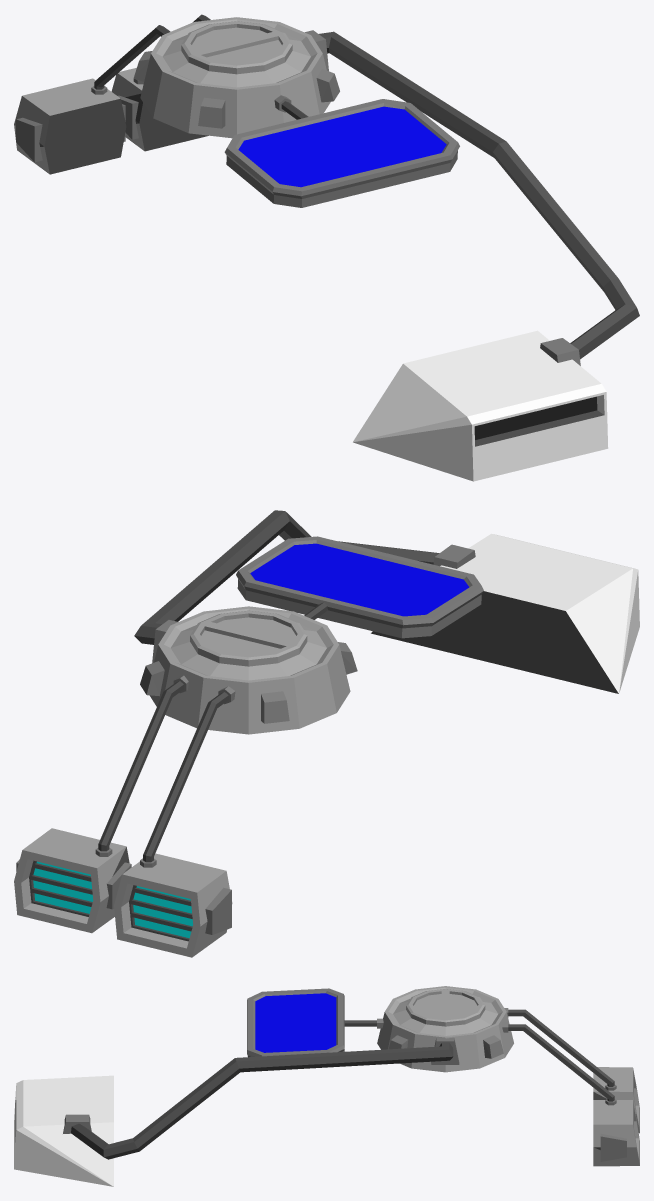
The model's file is Proto_Vehicle_Car_Flying_Cyber_Retrofit_Power_System_01.fbx.
3 renders of one model, top to bottom at view 1: azimuth 30°, elevation 25°; view 2: azimuth 150°, elevation 25°; view 3: azimuth 270°, elevation 25°, orthographic. The views are drawn at different scales.
Visible parts, largest first — view 1: Proto_Vehicle_Car_Flying_Cyber_Retrofit_Power_System_01; view 2: Proto_Vehicle_Car_Flying_Cyber_Retrofit_Power_System_01; view 3: Proto_Vehicle_Car_Flying_Cyber_Retrofit_Power_System_01.
Boxes of the visible parts, x1,y1,x2,y2 form: Proto_Vehicle_Car_Flying_Cyber_Retrofit_Power_System_01: (14, 14, 639, 481); Proto_Vehicle_Car_Flying_Cyber_Retrofit_Power_System_01: (14, 510, 639, 957); Proto_Vehicle_Car_Flying_Cyber_Retrofit_Power_System_01: (14, 986, 639, 1186).
Size of the model in its own units: 1.42 by 0.9502 by 3.81.
